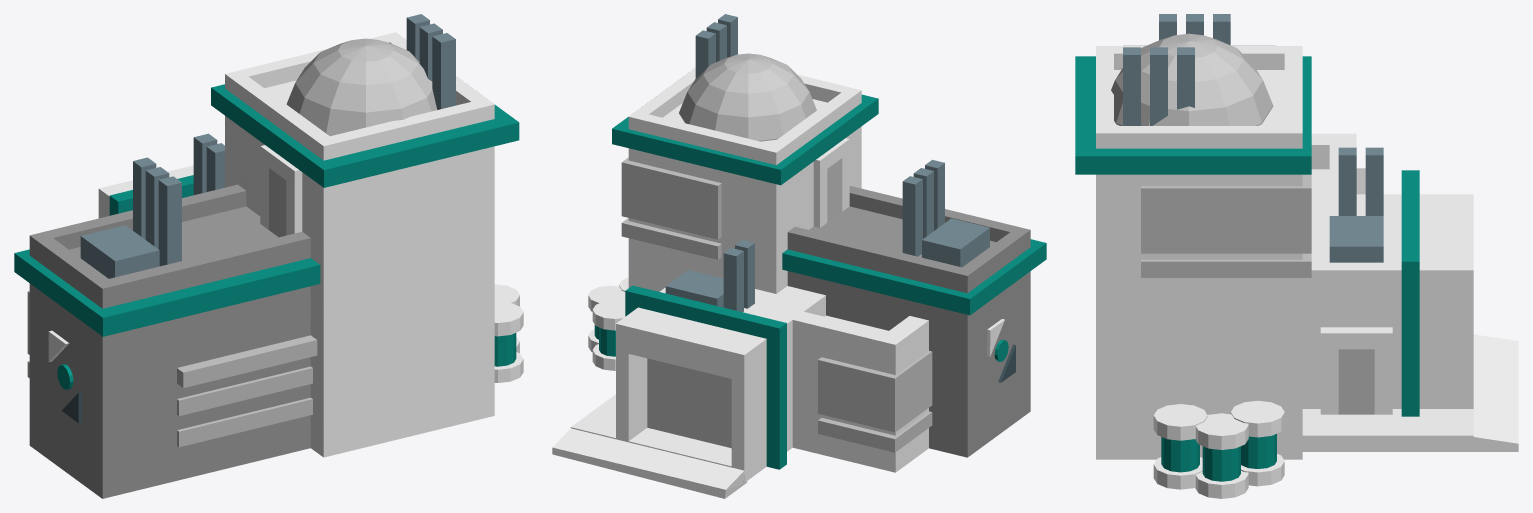
3 views of the same model, side by side, from view 1: azimuth 30°, elevation 25°; view 2: azimuth 150°, elevation 25°; view 3: azimuth 270°, elevation 25° (orthographic). The views are drawn at different scales.
Visible parts, largest first — view 1: mesh_1402583281, mesh_614560715, mesh_1218104621, mesh_1823136938, mesh_343389326, mesh_1997347060, mesh_1508717350, group_2085792972, mesh_1876434331, mesh_294133251, mesh_1040198484, mesh_2108479748 (+18 smaller); view 2: mesh_614560715, mesh_1402583281, mesh_1218104621, mesh_1112950535, mesh_649567342, mesh_1639621080, mesh_1756934309, mesh_1709219638, mesh_734234387, mesh_2003159481, mesh_905428687, mesh_294133251 (+30 smaller); view 3: mesh_1402583281, mesh_1009672793, mesh_1709219638, mesh_1218104621, mesh_1414072689, mesh_804107908, group_1196670224, mesh_1978662358, mesh_1756934309, mesh_465900982, group_568287060, group_351739945 (+20 smaller).
Boxes of the visible parts, <box> form: mesh_1402583281: <box>225,80,494,457</box>; mesh_614560715: <box>29,206,310,498</box>; mesh_1218104621: <box>286,38,437,136</box>; mesh_1823136938: <box>92,258,320,336</box>; mesh_343389326: <box>94,232,310,303</box>; mesh_1997347060: <box>331,119,502,183</box>; mesh_1508717350: <box>330,102,479,156</box>; group_2085792972: <box>260,145,302,237</box>; mesh_1876434331: <box>221,92,340,187</box>; mesh_294133251: <box>29,184,246,256</box>; mesh_1040198484: <box>177,335,317,387</box>; mesh_2108479748: <box>80,225,159,278</box>; mesh_614560715: <box>787,206,1030,457</box>; mesh_1402583281: <box>628,99,861,293</box>; mesh_1218104621: <box>679,53,816,141</box>; mesh_1112950535: <box>792,315,928,472</box>; mesh_649567342: <box>818,351,932,432</box>; mesh_1639621080: <box>647,358,731,448</box>; mesh_1756934309: <box>552,428,747,498</box>; mesh_1709219638: <box>621,157,721,239</box>; mesh_734234387: <box>628,310,753,378</box>; mesh_2003159481: <box>731,336,766,469</box>; mesh_905428687: <box>782,249,978,315</box>; mesh_294133251: <box>787,226,974,289</box>; mesh_1402583281: <box>1096,70,1302,459</box>; mesh_1009672793: <box>1302,194,1401,408</box>; mesh_1709219638: <box>1141,174,1311,253</box>; mesh_1218104621: <box>1111,33,1273,125</box>; mesh_1414072689: <box>1419,262,1473,408</box>; mesh_804107908: <box>1302,409,1473,451</box>; group_1196670224: <box>1320,327,1392,414</box>; mesh_1978662358: <box>1075,147,1291,174</box>; mesh_1756934309: <box>1464,334,1518,451</box>; mesh_465900982: <box>1096,126,1284,148</box>; group_568287060: <box>1195,413,1248,498</box>; group_351739945: <box>1153,404,1207,489</box>.
Size of the model in its own units: 63.21 by 48.39 by 49.29.
